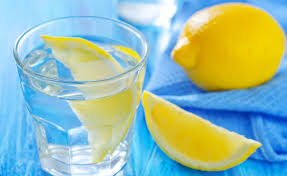lemon: (172, 1, 287, 82)
